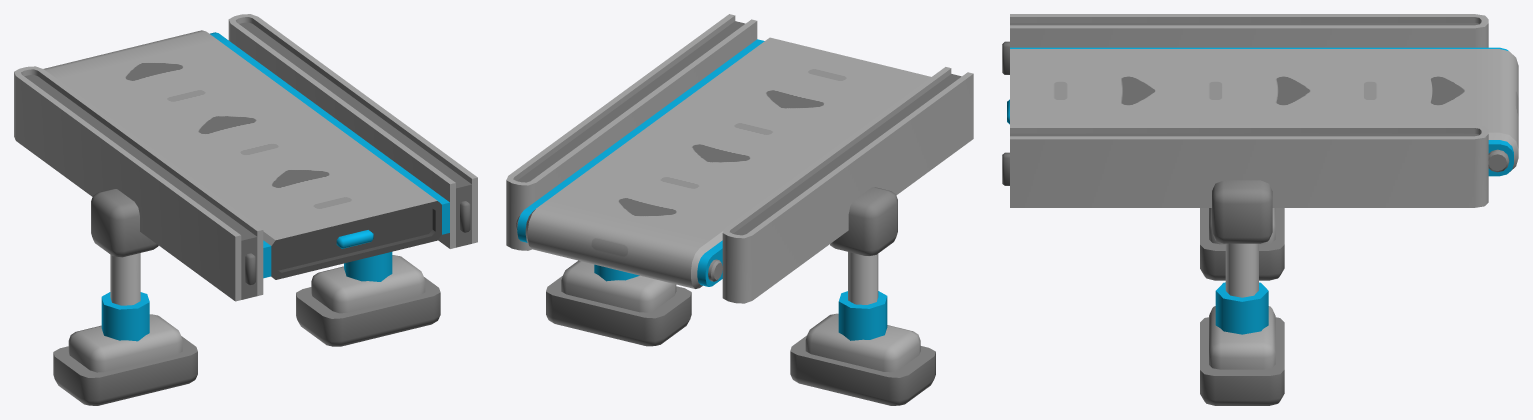
Rendered from Conveyor_Belt_2nd_S01_Cap_E.fbx.
3 renders of one model, left to right at view 1: azimuth 30°, elevation 25°; view 2: azimuth 150°, elevation 25°; view 3: azimuth 270°, elevation 25°, orthographic. The views are drawn at different scales.
Parts seen in each view (by area): view 1: Conveyor_Belt_2nd_S01_Cap_E; view 2: Conveyor_Belt_2nd_S01_Cap_E; view 3: Conveyor_Belt_2nd_S01_Cap_E.
Part boxes in pixels (bbox=[...]): Conveyor_Belt_2nd_S01_Cap_E: bbox=[14, 14, 477, 405]; Conveyor_Belt_2nd_S01_Cap_E: bbox=[506, 14, 973, 405]; Conveyor_Belt_2nd_S01_Cap_E: bbox=[1002, 14, 1518, 405].
Bounding box in the file's own units: 189 × 115 × 222.
